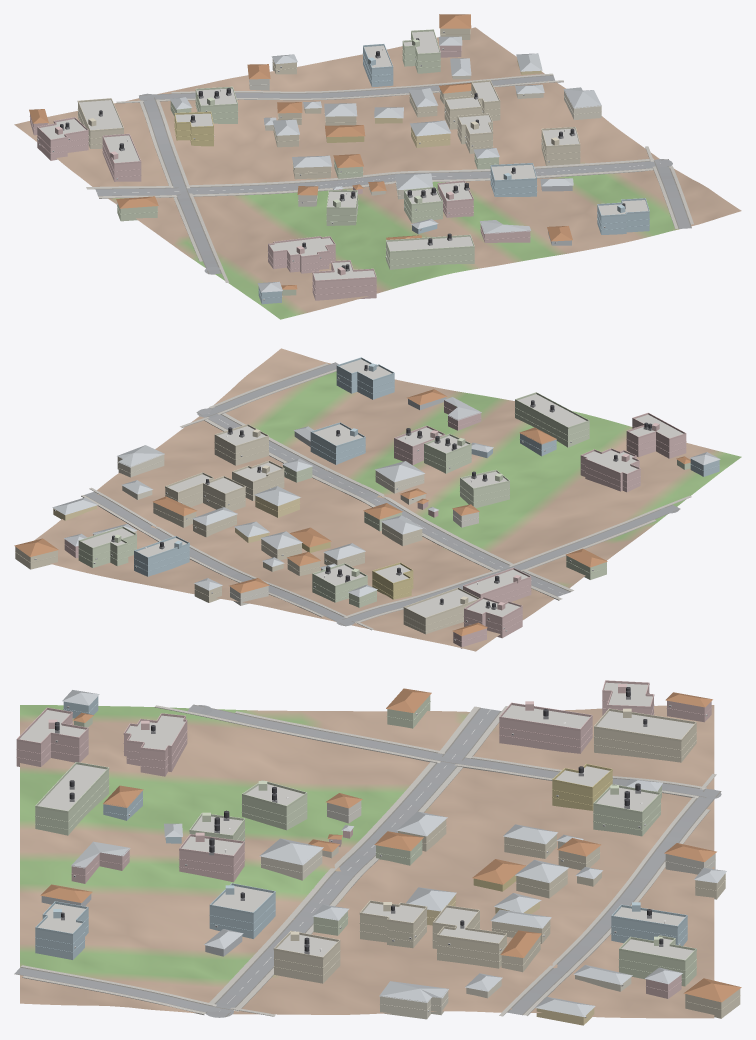
The picture shows the model from 3 angles, top to bottom: view 1: azimuth 30°, elevation 25°; view 2: azimuth 150°, elevation 25°; view 3: azimuth 270°, elevation 25°; orthographic projection. The views are drawn at different scales.
Visible parts, largest first — view 1: Terrain-col, Buildings-col, Details, Roads-col, Sidewalks-col; view 2: Terrain-col, Buildings-col, Details, Roads-col, Sidewalks-col; view 3: Terrain-col, Buildings-col, Roads-col, Details, Sidewalks-col.
Boxes of the visible parts, x1,y1,x2,y2 form: Terrain-col: (14, 27, 741, 319); Buildings-col: (29, 14, 649, 304); Details: (29, 29, 649, 300); Roads-col: (95, 75, 691, 274); Sidewalks-col: (86, 73, 693, 282); Terrain-col: (34, 348, 741, 651); Buildings-col: (14, 359, 720, 648); Details: (15, 357, 719, 642); Roads-col: (84, 362, 680, 626); Sidewalks-col: (81, 363, 691, 630); Terrain-col: (20, 705, 714, 1018); Buildings-col: (16, 682, 741, 1025); Roads-col: (14, 704, 721, 1017); Details: (16, 680, 740, 1018); Sidewalks-col: (21, 705, 716, 1016).
Size of the model in its own units: 271 by 22.44 by 268.
